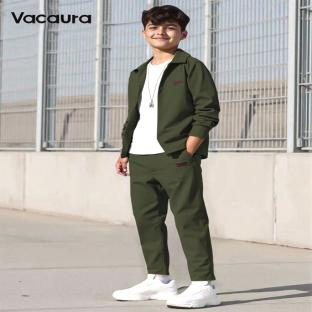Human: (113, 5, 220, 307)
